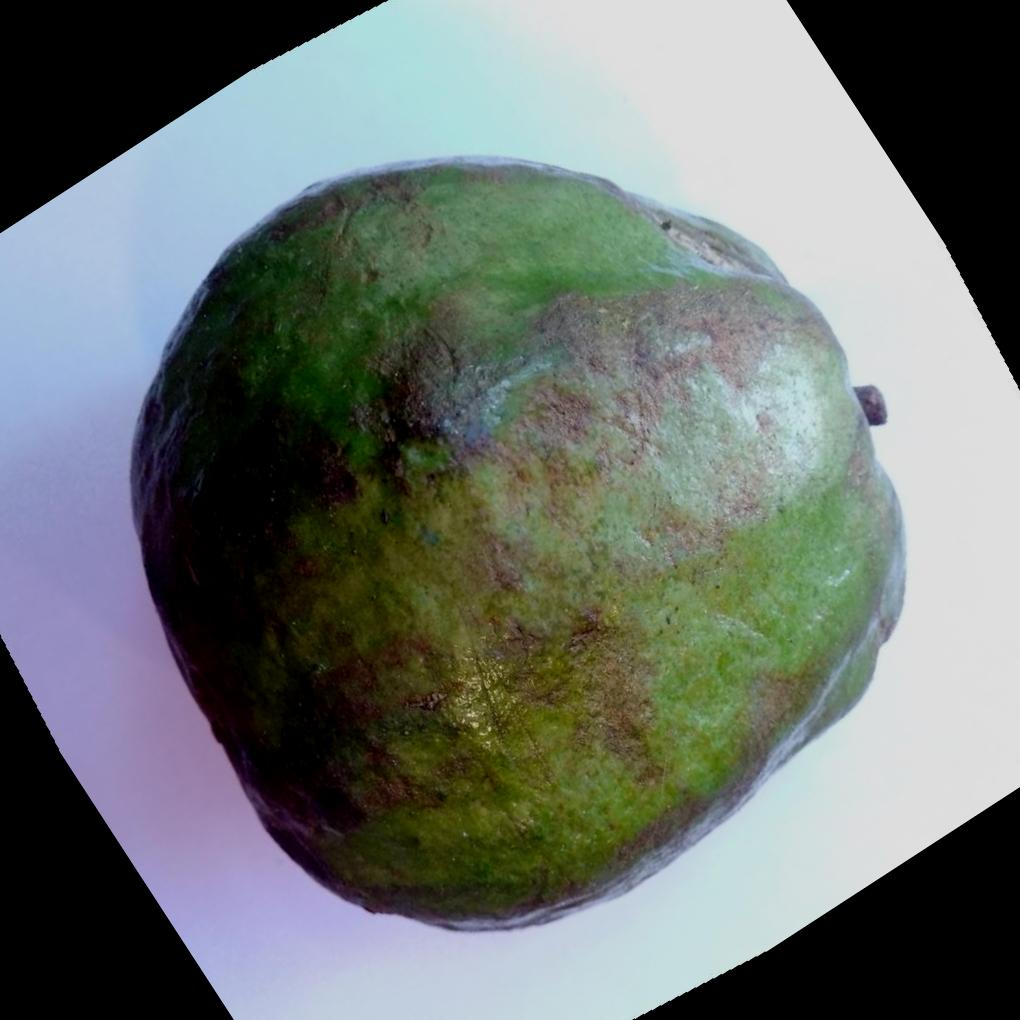FreshOrange: (123, 159, 906, 933)
